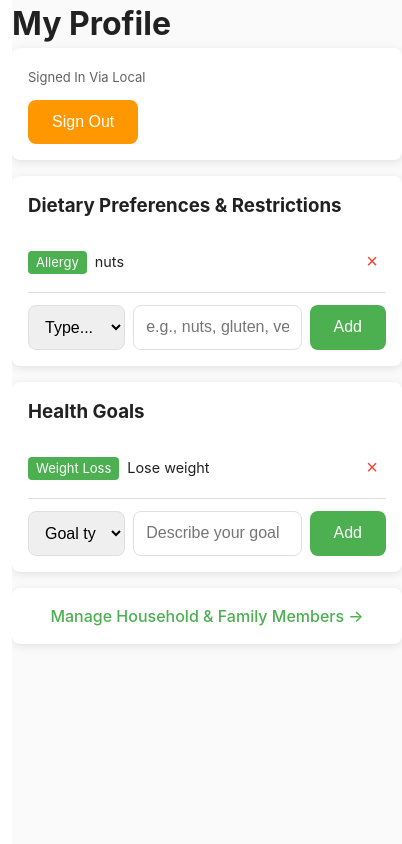
it: ProfileView › shows error when addGoal fails
The width and height of the screenshot is (402, 844).
Select "weight loss" in the dropdown below "weight loss" at point(77, 533), box [28,511,125,556]
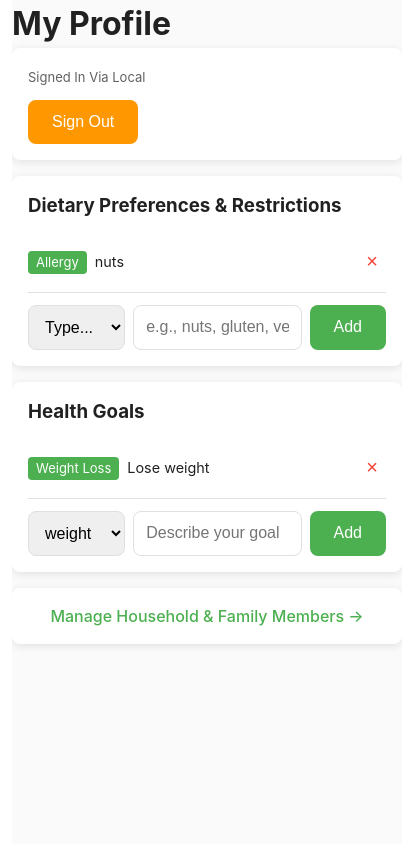
Type "Some goal" into the field with placeholder "Describe your goal" at point(217, 533), box [133,511,302,556]
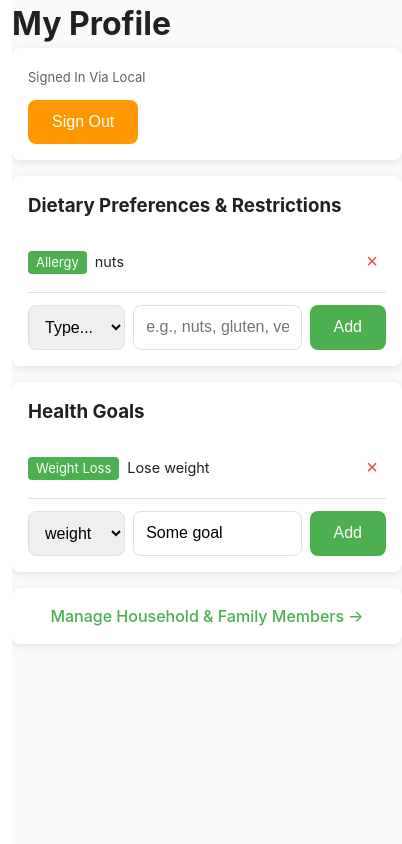
Submit the form with class "add-form" below "weight loss", box [28,511,386,556]
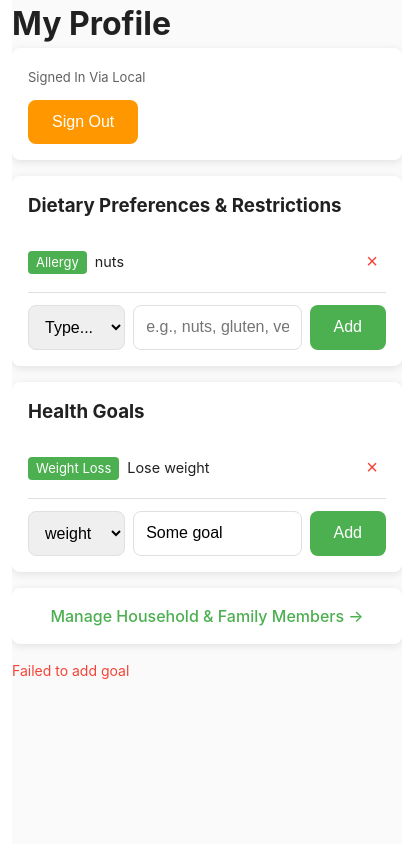
expect the text with class "error-text" reads "Failed to add goal": met, box [12,662,129,679]
